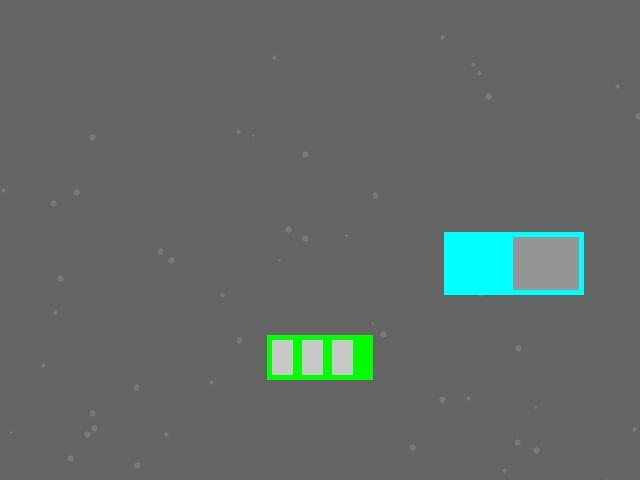bus: (267, 335, 372, 379)
truck: (444, 232, 583, 294)
